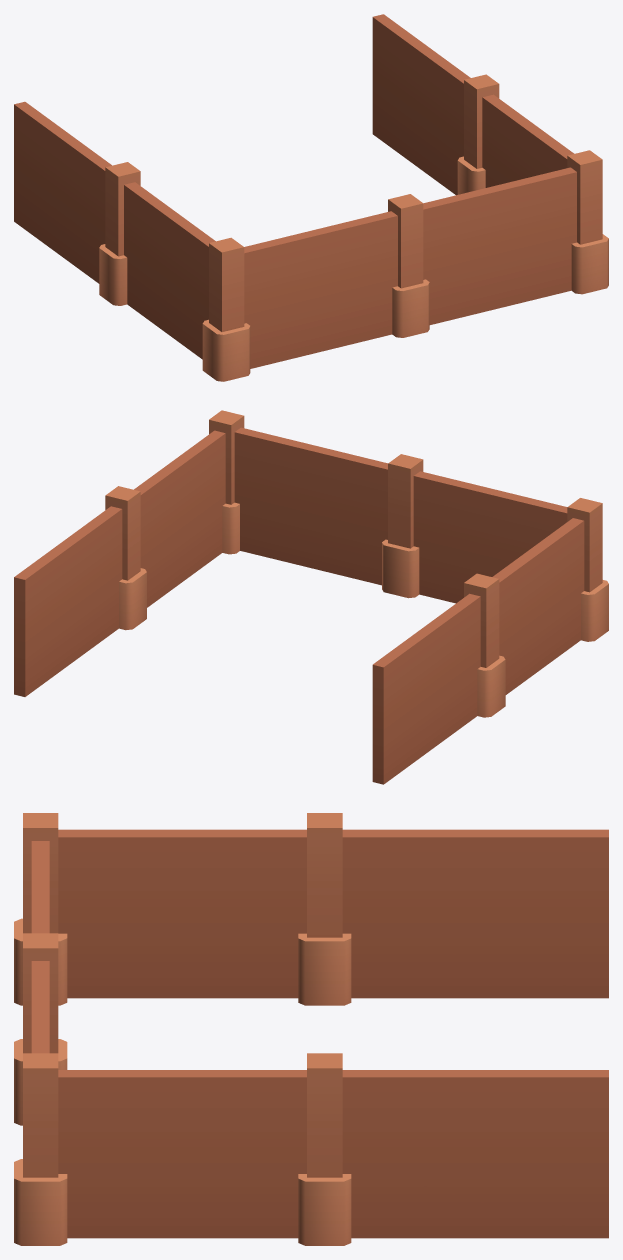
The model's file is fence-2x2.glb.
The picture shows the model from 3 angles, top to bottom: view 1: azimuth 30°, elevation 25°; view 2: azimuth 150°, elevation 25°; view 3: azimuth 270°, elevation 25°; orthographic projection. The views are drawn at different scales.
Visible parts, largest first — view 1: fence-2x2; view 2: fence-2x2; view 3: fence-2x2.
Part boxes in pixels (box(x1,y1,x2,y2)): fence-2x2: box(14, 14, 608, 381); fence-2x2: box(14, 410, 608, 784); fence-2x2: box(14, 813, 608, 1245).
Size of the model in its own units: 0.875 by 0.2701 by 0.8375.
1 material, 1 textured.
